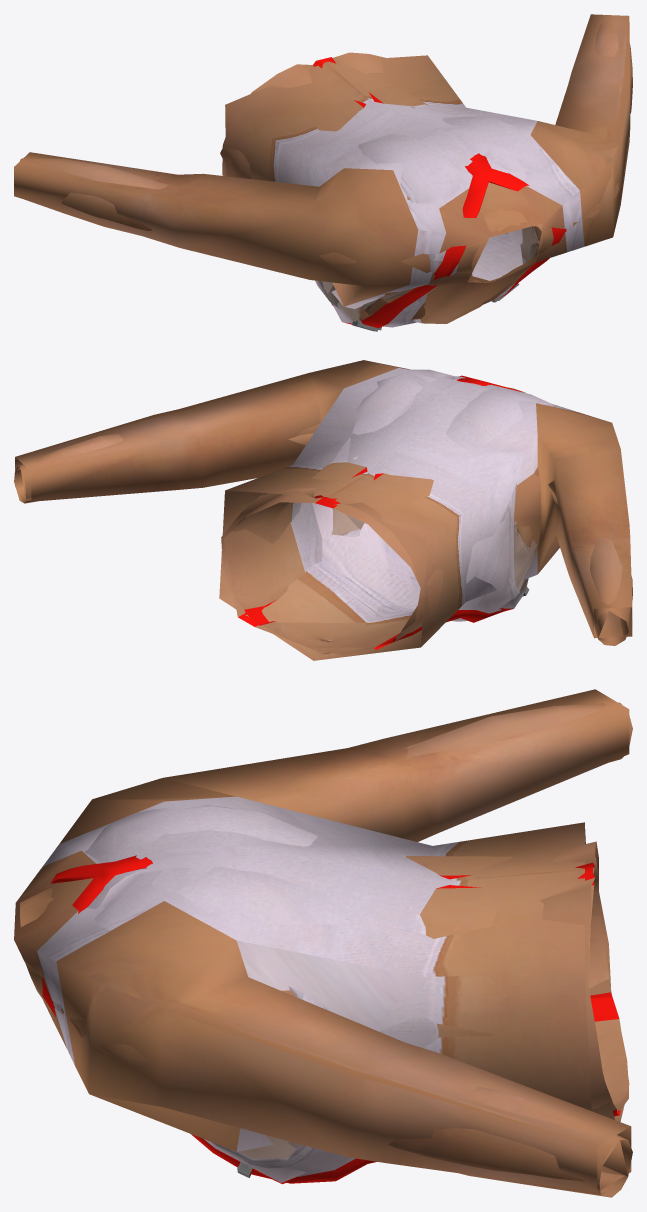
The model's file is uppr_000_r.obj.
3 views of the same model, one above another, from view 1: azimuth 30°, elevation 25°; view 2: azimuth 150°, elevation 25°; view 3: azimuth 270°, elevation 25° (orthographic). The views are drawn at different scales.
Parts seen in each view (by area): view 1: uppr_000_r_low_1, uppr_000_r_high_1, uppr_000_r_med_1; view 2: uppr_000_r_low_1, uppr_000_r_high_1, uppr_000_r_med_1; view 3: uppr_000_r_low_1, uppr_000_r_high_1, uppr_000_r_med_1.
Boxes of the visible parts, left/top/right/bottom form: uppr_000_r_low_1: left=14, top=14, right=630, bottom=323; uppr_000_r_high_1: left=20, top=20, right=632, bottom=330; uppr_000_r_med_1: left=152, top=87, right=599, bottom=331; uppr_000_r_low_1: left=15, top=360, right=632, bottom=660; uppr_000_r_high_1: left=15, top=369, right=632, bottom=654; uppr_000_r_med_1: left=14, top=376, right=628, bottom=648; uppr_000_r_low_1: left=14, top=689, right=631, bottom=1192; uppr_000_r_high_1: left=20, top=702, right=632, bottom=1197; uppr_000_r_med_1: left=20, top=743, right=629, bottom=1194.
Bounding box in the file's own units: 0.9014 × 0.2769 × 0.5146.
